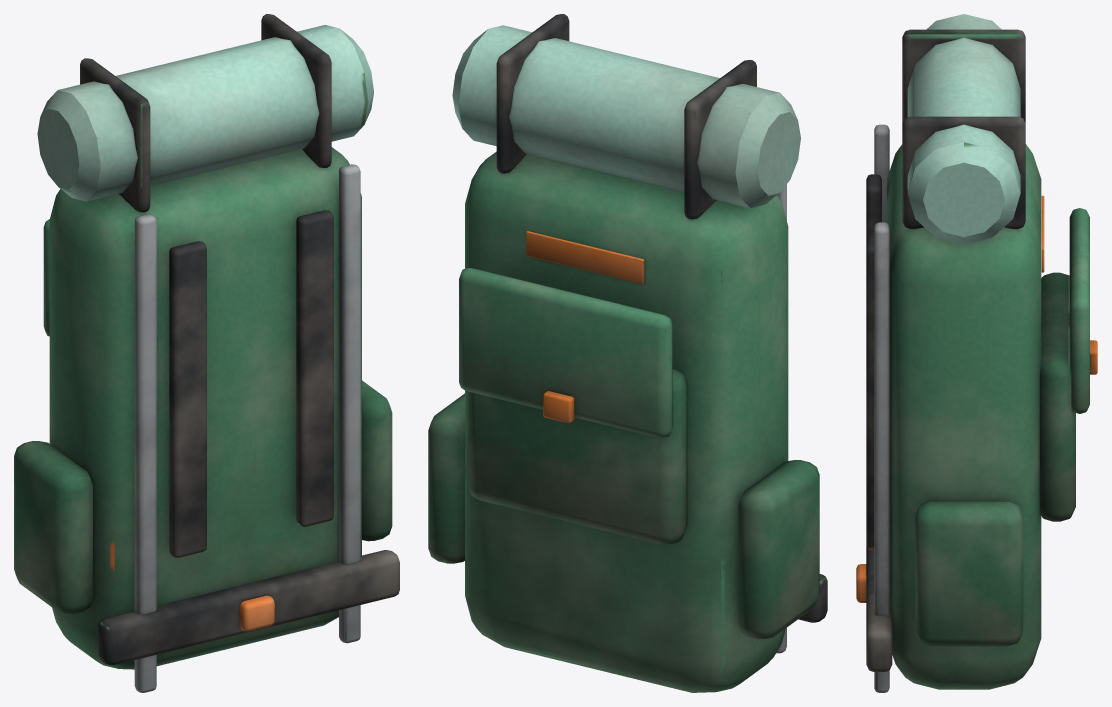
File: hiking_pack.fbx
3 renders of one model, left to right at view 1: azimuth 30°, elevation 25°; view 2: azimuth 150°, elevation 25°; view 3: azimuth 270°, elevation 25°, orthographic. The views are drawn at different scales.
Visible parts, largest first — view 1: Body, Flap; view 2: Body, Flap; view 3: Body, Flap.
Part boxes in pixels (box(x1,y1,x2,y2)): Body: box(14, 14, 399, 692); Flap: box(43, 219, 49, 336); Body: box(428, 14, 827, 692); Flap: box(459, 268, 672, 437); Body: box(856, 14, 1075, 692); Flap: box(1069, 208, 1097, 413).
Bounding box in the file's own units: 1.48 × 2.44 × 0.94.
1 material, 1 textured.
